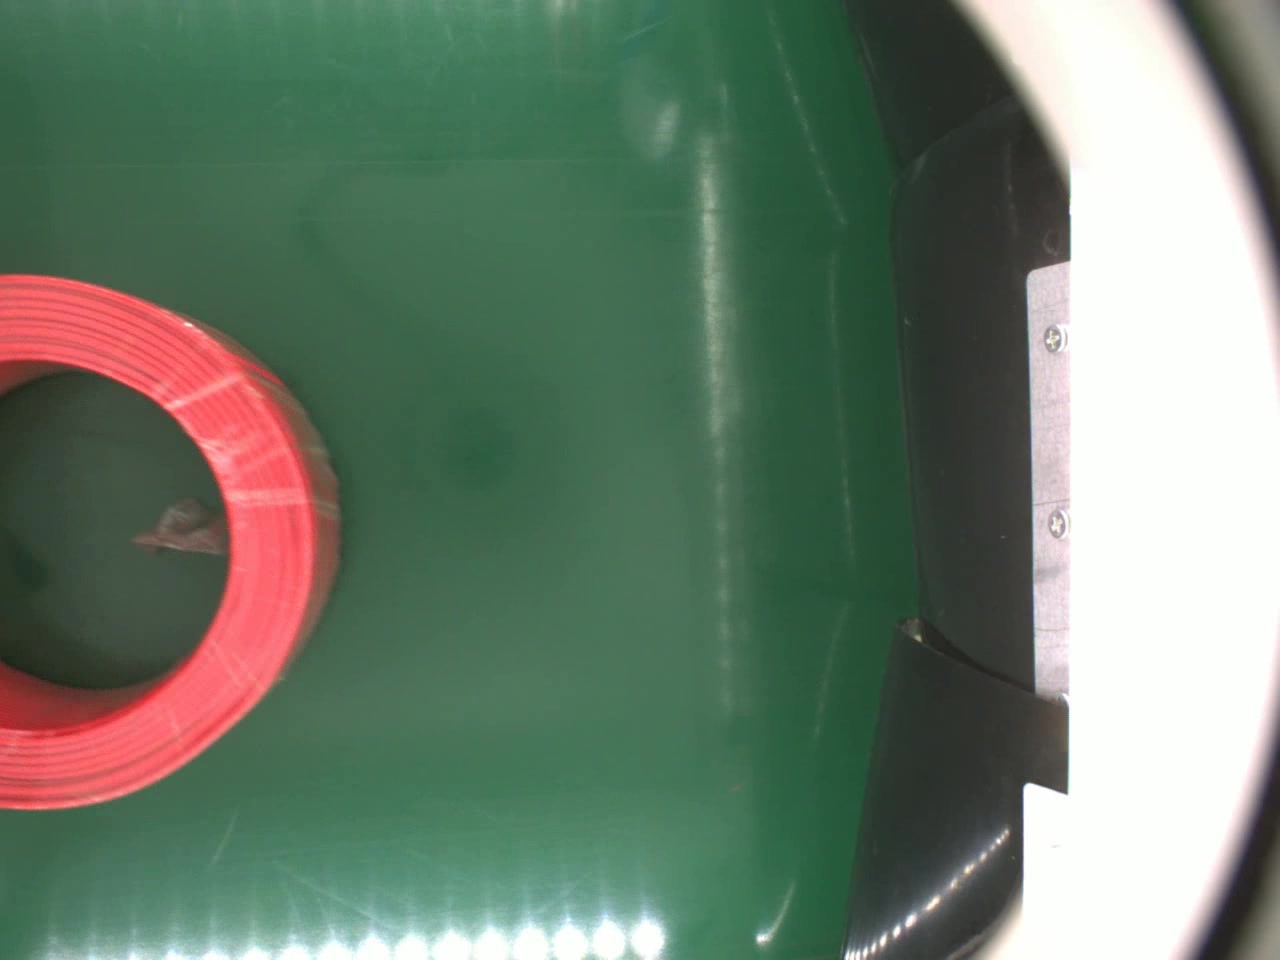red: (0, 270, 346, 814)
